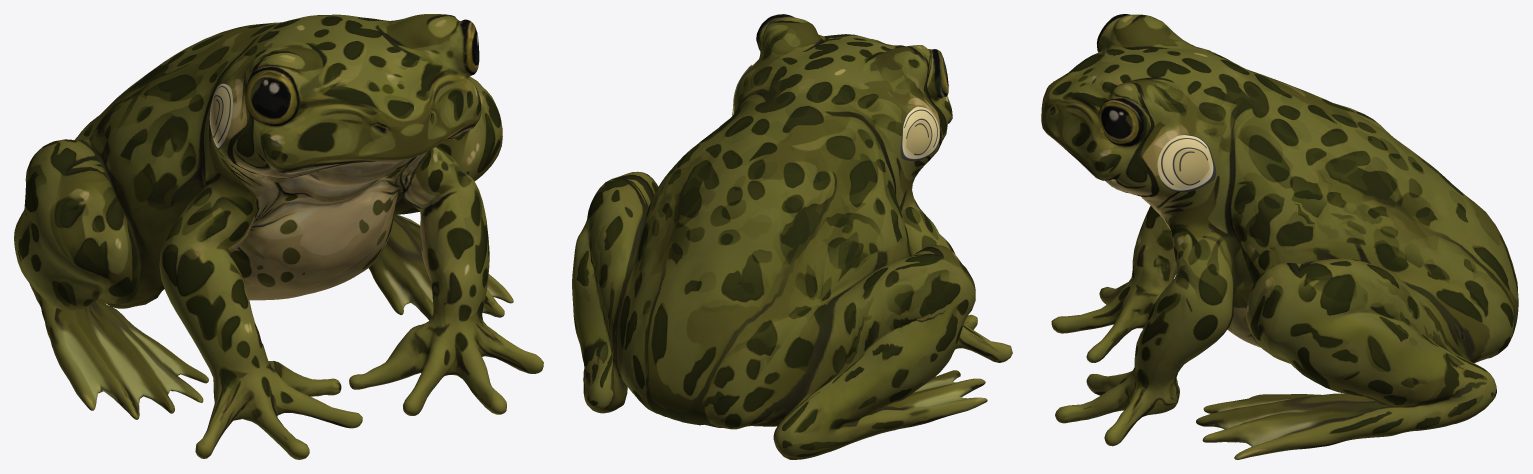
The model's file is frog_male.glb.
3 views of the same model, side by side, from view 1: azimuth 30°, elevation 25°; view 2: azimuth 150°, elevation 25°; view 3: azimuth 270°, elevation 25° (orthographic). The views are drawn at different scales.
Parts seen in each view (by area): view 1: 公青蛙, 公青蛙鼓膜; view 2: 公青蛙, 公青蛙鼓膜; view 3: 公青蛙, 公青蛙鼓膜.
Part boxes in pixels (left/top/right/bottom): 公青蛙: left=14, top=14, right=543, bottom=459; 公青蛙鼓膜: left=209, top=83, right=232, bottom=149; 公青蛙: left=572, top=14, right=1012, bottom=459; 公青蛙鼓膜: left=732, top=65, right=939, bottom=161; 公青蛙: left=1041, top=14, right=1518, bottom=459; 公青蛙鼓膜: left=1157, top=134, right=1215, bottom=191.
Size of the model in its own units: 96.97 by 76.05 by 99.83.
Materials: 2 (2 with a texture image).
